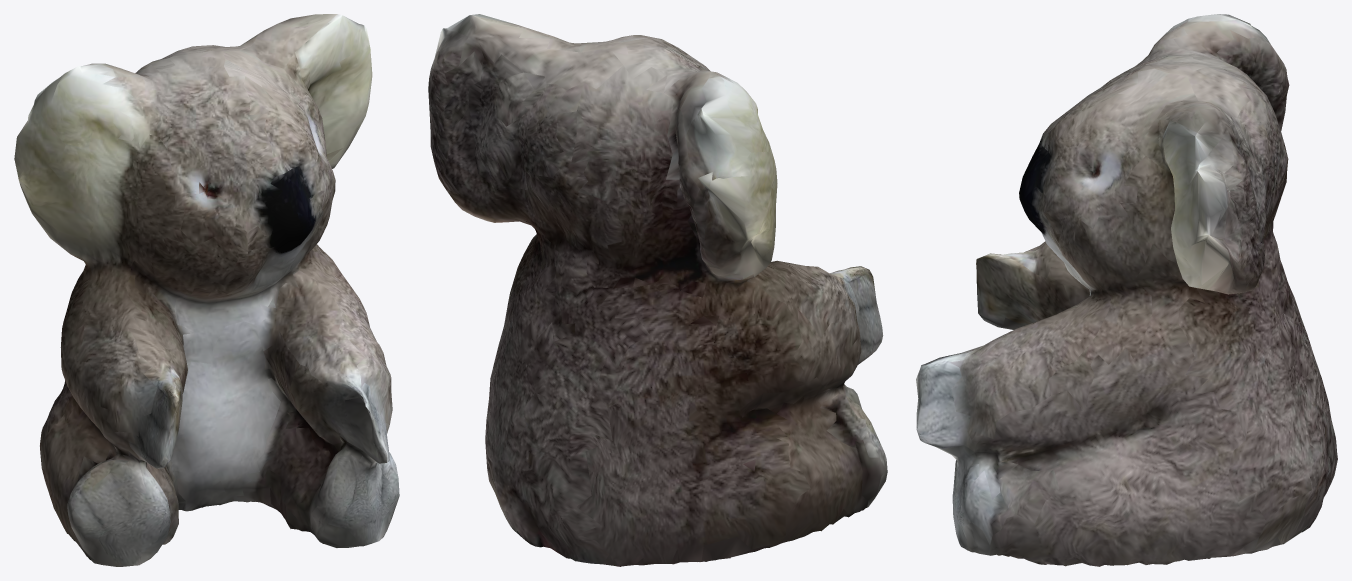
File: blinki.glb
3 renders of one model, left to right at view 1: azimuth 30°, elevation 25°; view 2: azimuth 150°, elevation 25°; view 3: azimuth 270°, elevation 25°, orthographic. The views are drawn at different scales.
Parts seen in each view (by area): view 1: 02_koala.005; view 2: 02_koala.005; view 3: 02_koala.005.
Part boxes in pixels (<box>): 02_koala.005: <box>14,14,399,566</box>; 02_koala.005: <box>428,14,887,566</box>; 02_koala.005: <box>916,14,1337,566</box>.
Size of the model in its own units: 0.8906 by 1.02 by 0.8603.
Materials: 2 (2 with a texture image).
